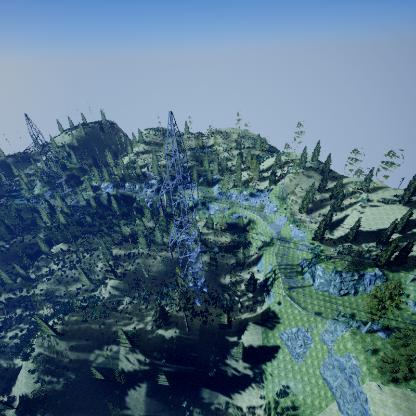tower: (153, 108, 211, 308)
